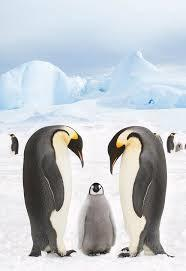emporer: (100, 124, 183, 266), (18, 121, 91, 266)
